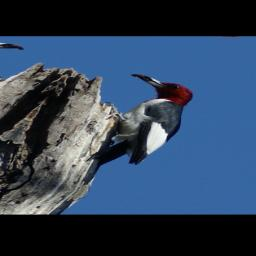Woodpecker: (45, 72, 214, 195)
